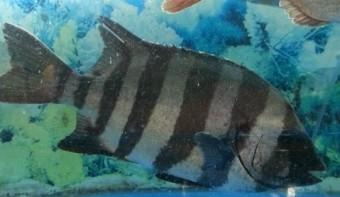fish: (0, 17, 323, 189)
